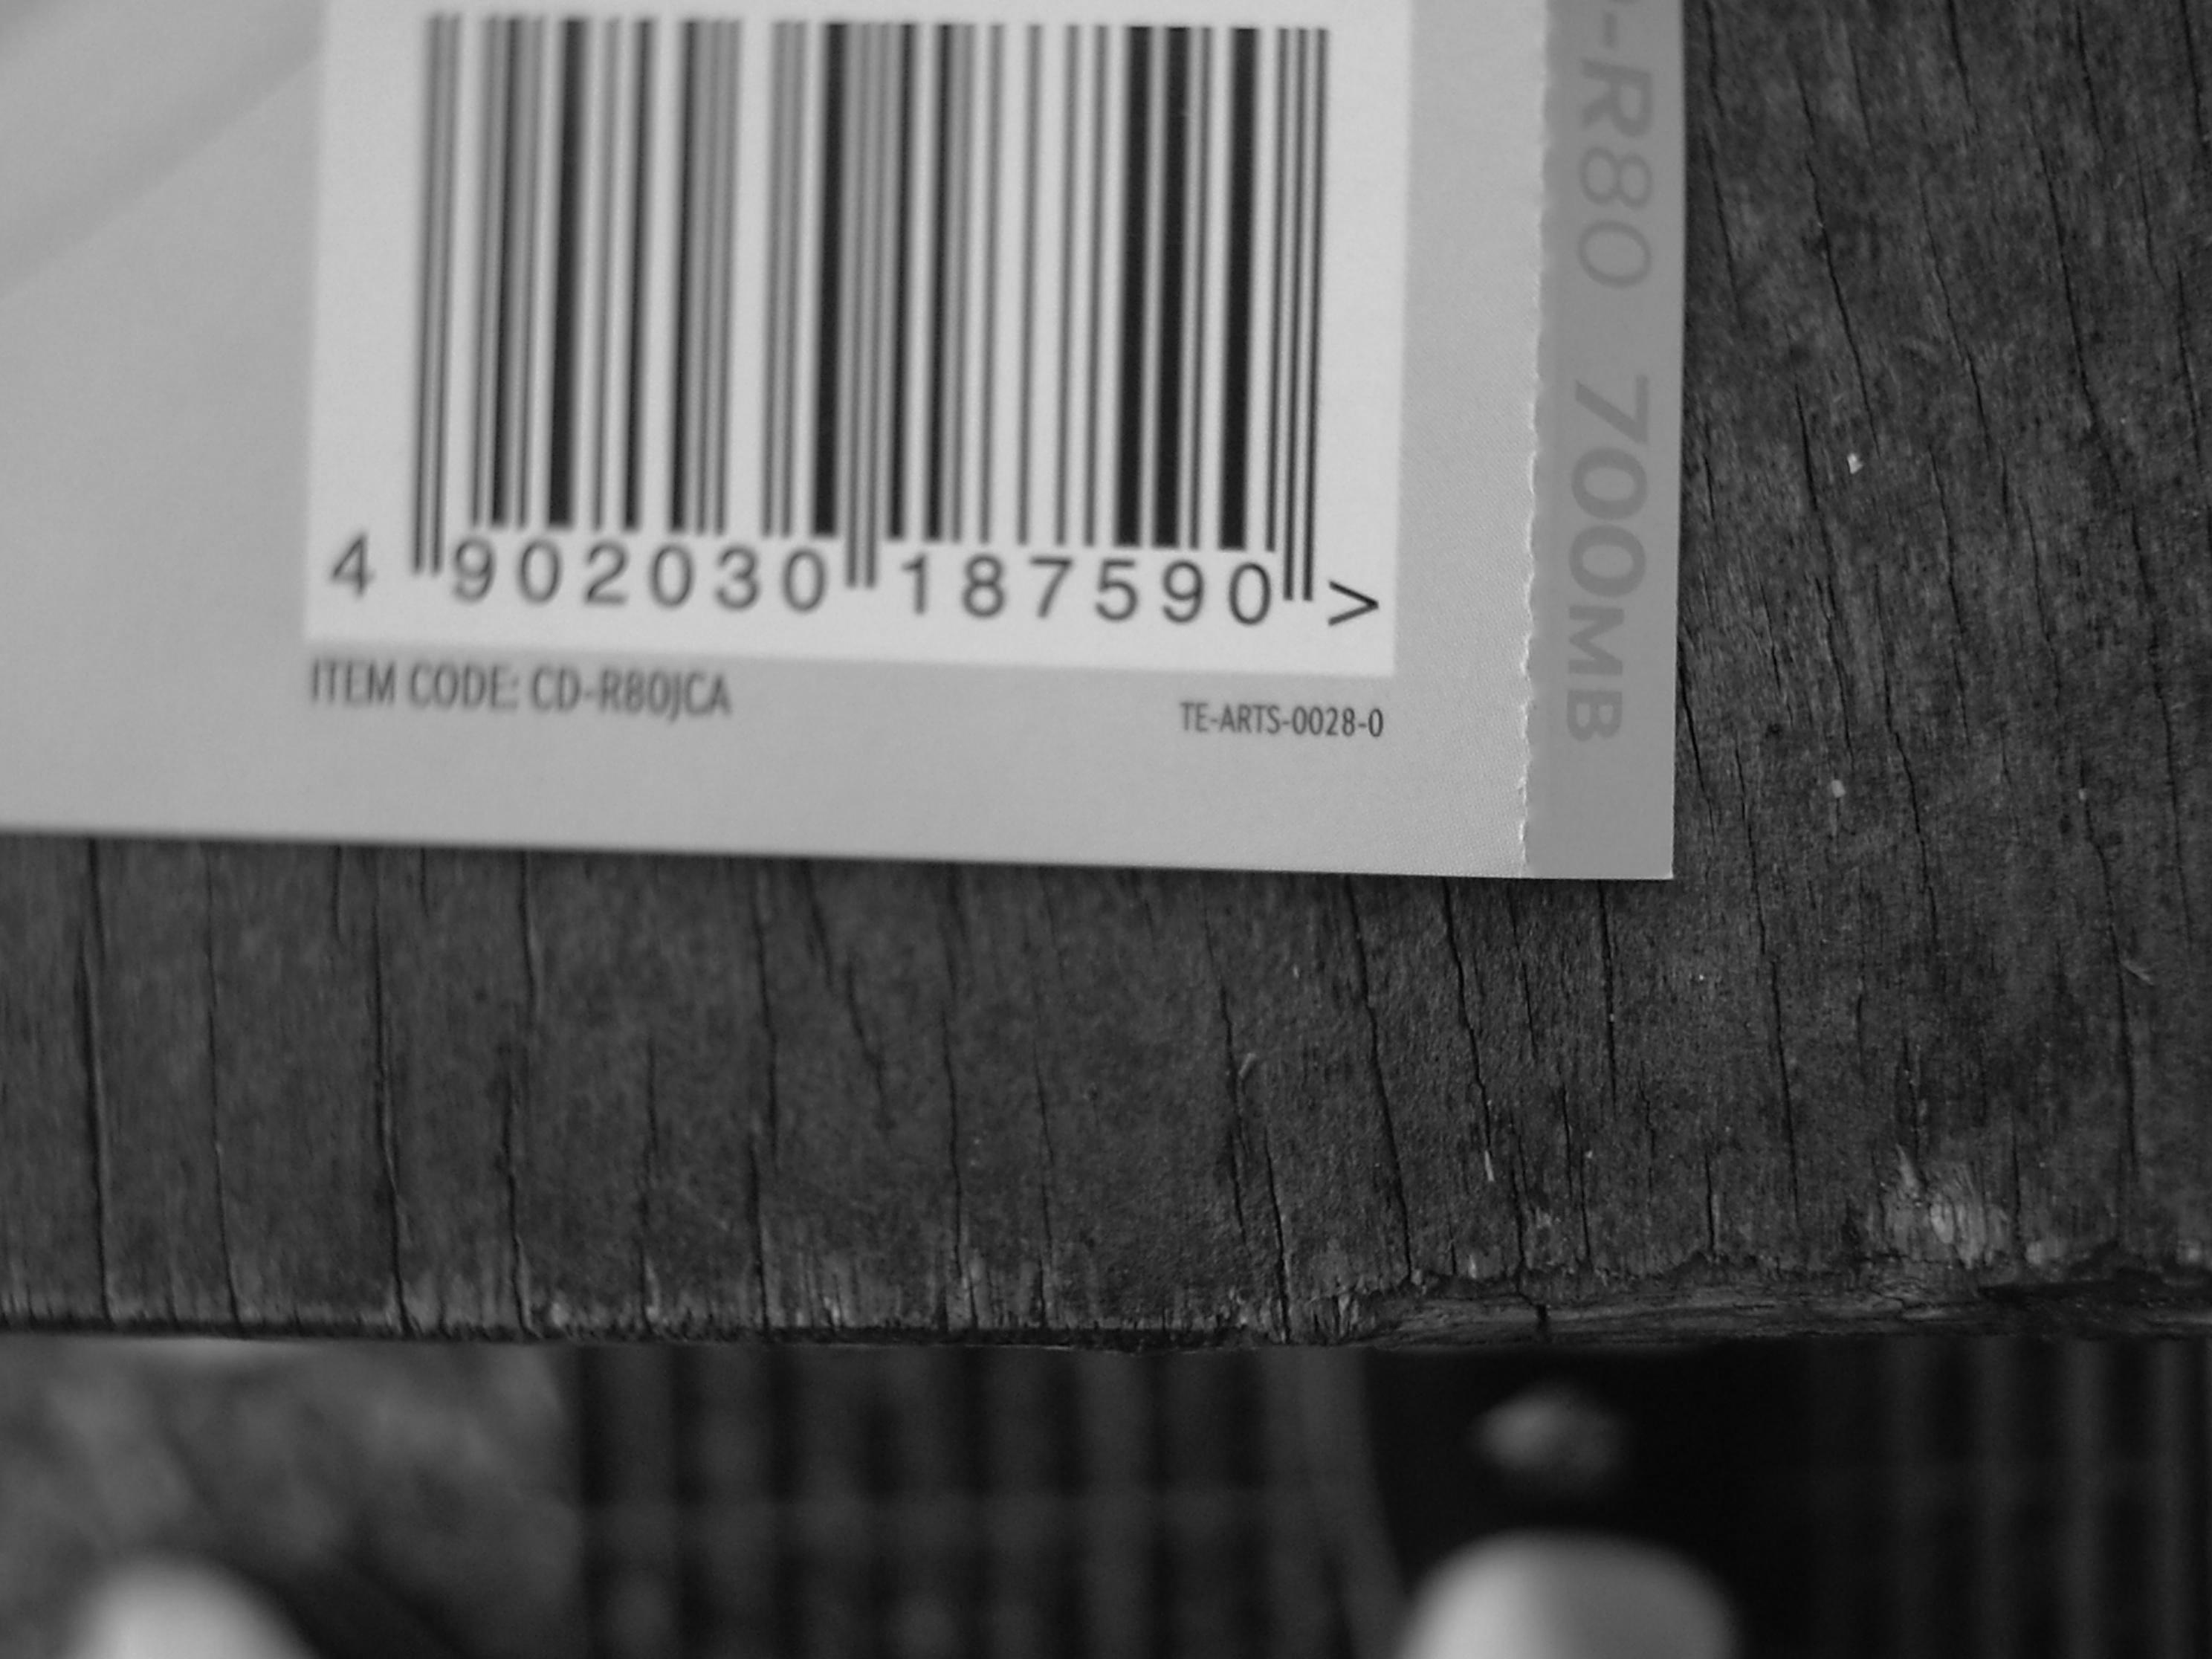Barcode: (380, 28, 1364, 575)
